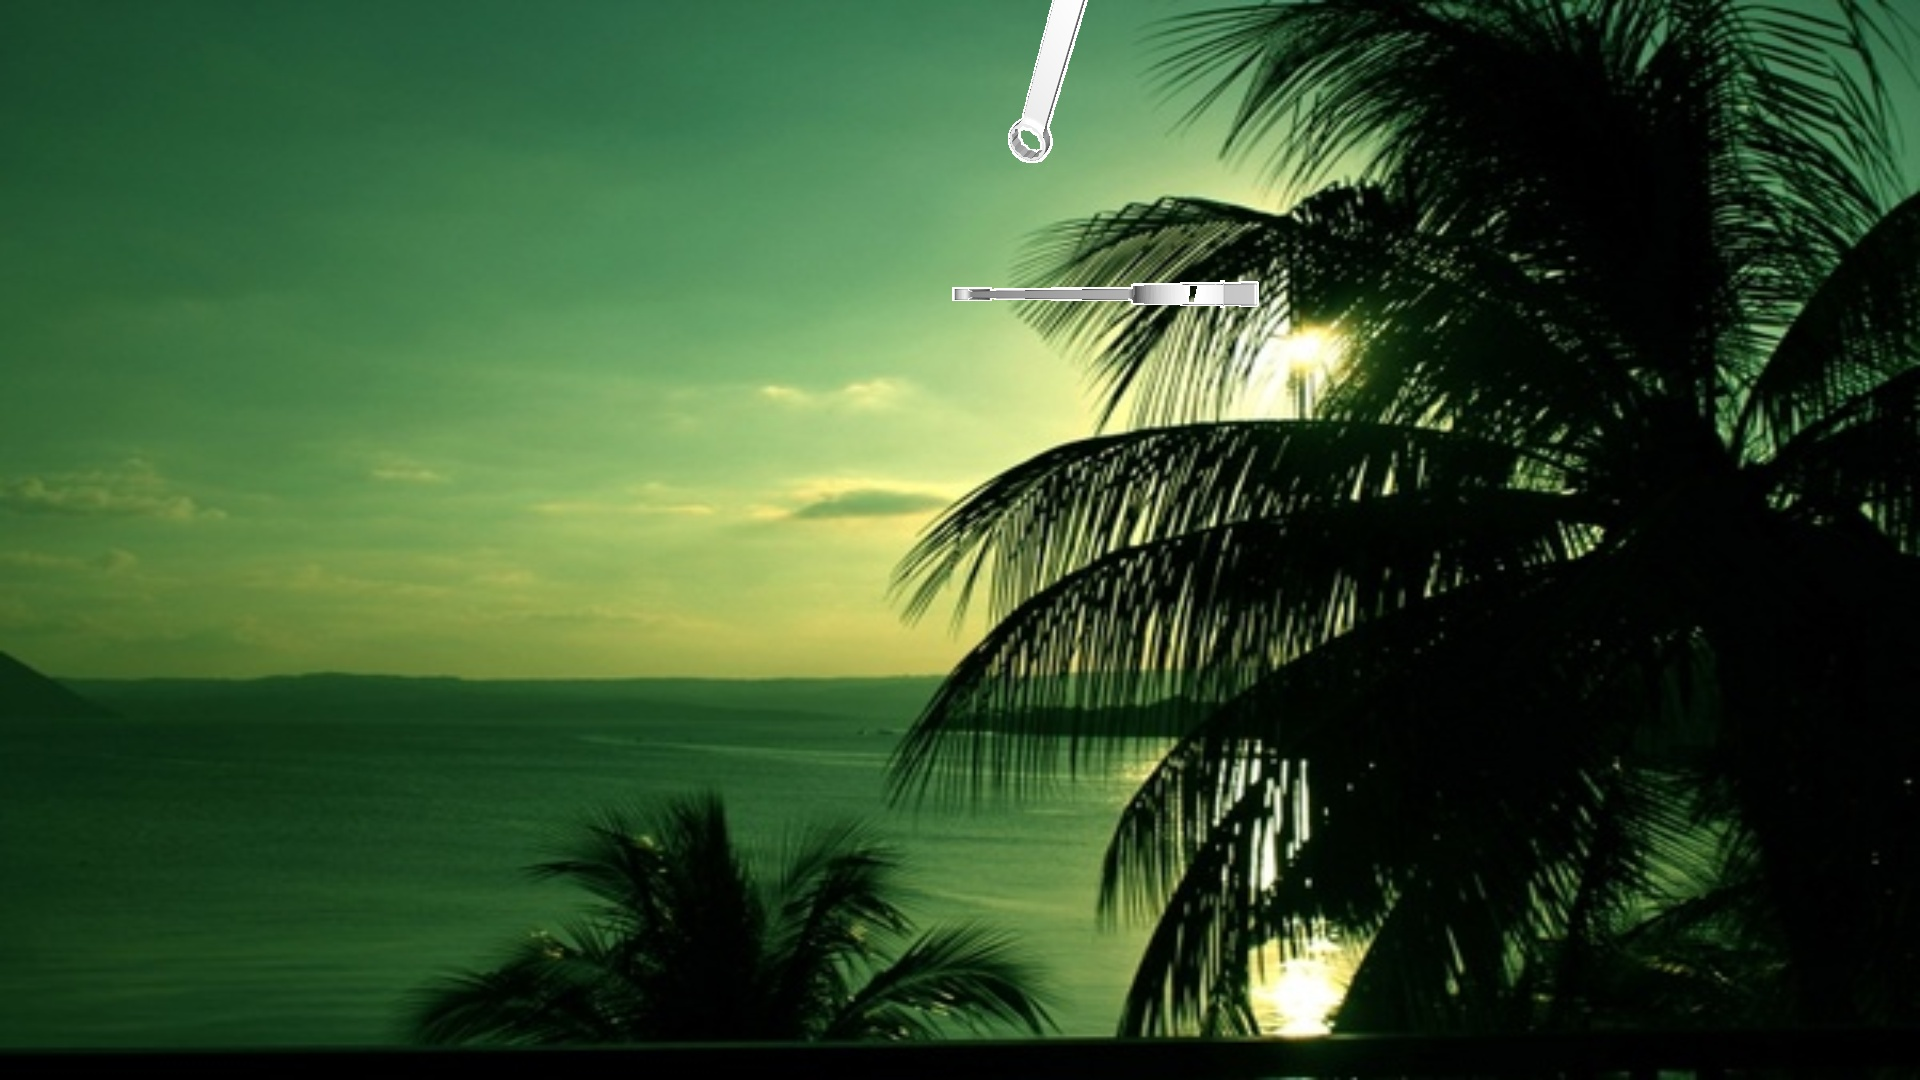Mixed Key: (1007, 0, 1087, 162), (952, 280, 1258, 307)
